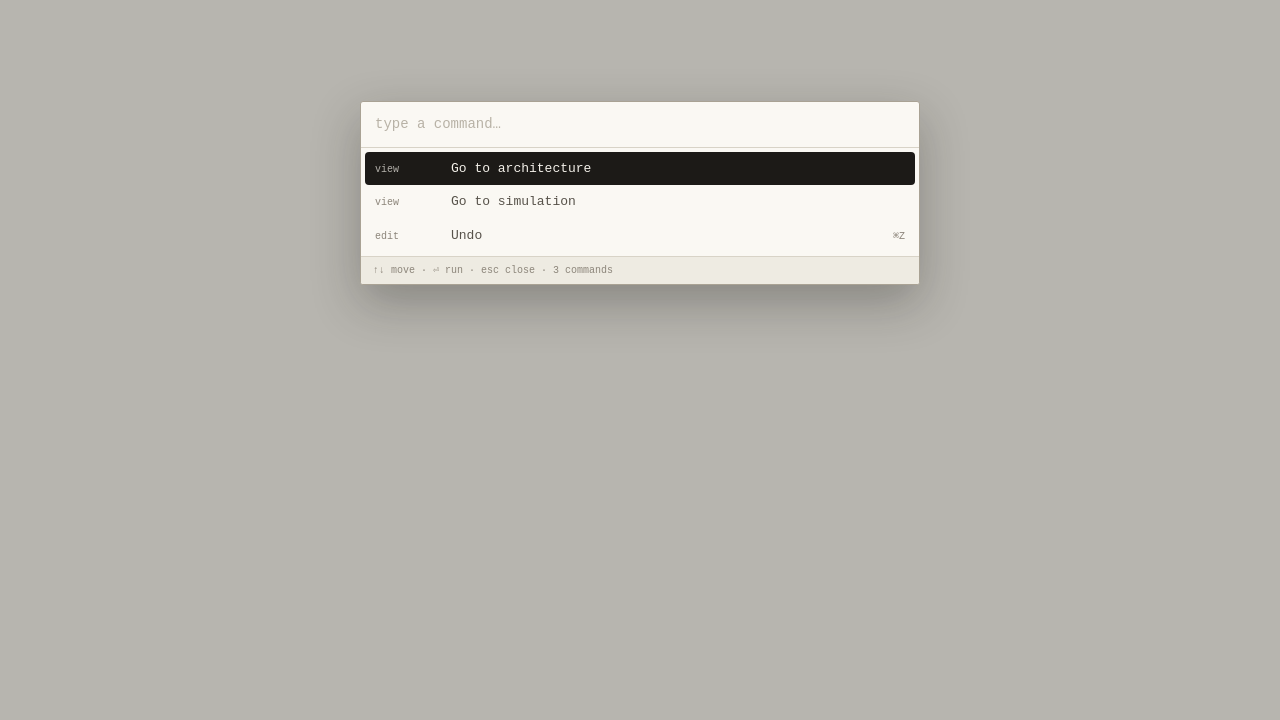
Test case: CommandPalette › shows an empty state when nothing matches
Type "zzzz" into the field with placeholder "type a command…". click: [640, 125]
box: [361,102,919,148]
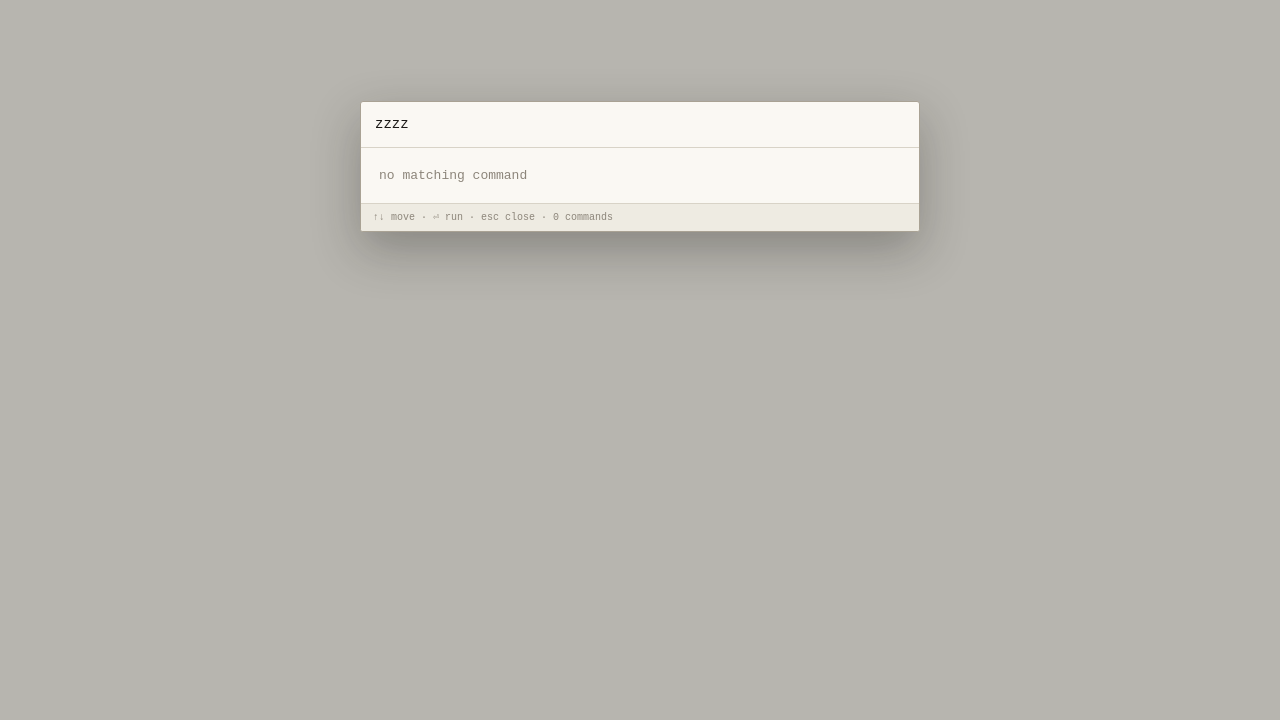
Now the text "no matching command" is shown, box [379,168,527,183]
